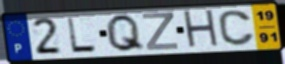2: (30, 17, 62, 56)
C: (217, 9, 257, 47)
H: (181, 8, 222, 51)
L: (65, 16, 99, 54)
Q: (104, 12, 147, 53)
Z: (141, 11, 181, 52)
